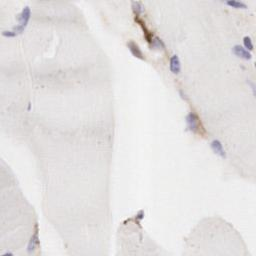nucleus: (229, 45, 251, 59), (210, 138, 226, 157), (170, 56, 180, 73), (20, 8, 30, 25), (187, 111, 194, 132), (225, 1, 247, 7), (134, 1, 145, 12), (153, 37, 164, 48), (244, 36, 253, 48), (1, 31, 16, 37), (250, 83, 256, 97), (131, 46, 139, 56), (27, 239, 33, 252), (136, 209, 143, 220), (1, 252, 16, 256), (26, 101, 31, 111)
positive_cell: (135, 15, 164, 50), (186, 108, 207, 137), (26, 221, 40, 253)
